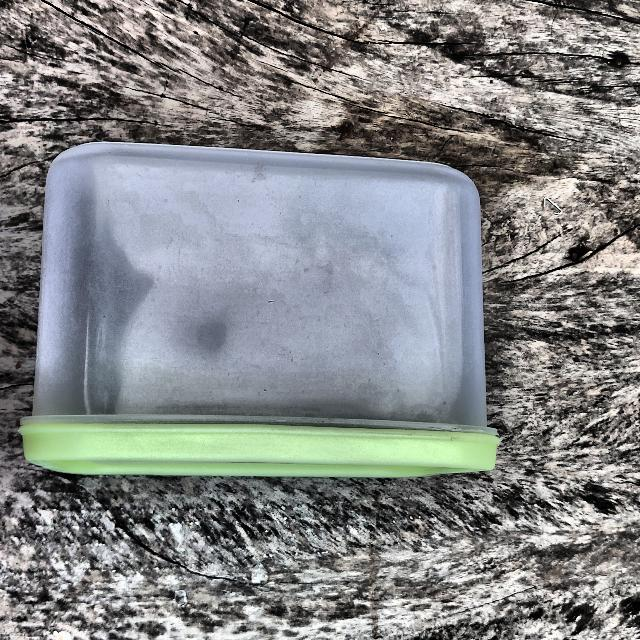plastic container: (15, 140, 520, 501)
